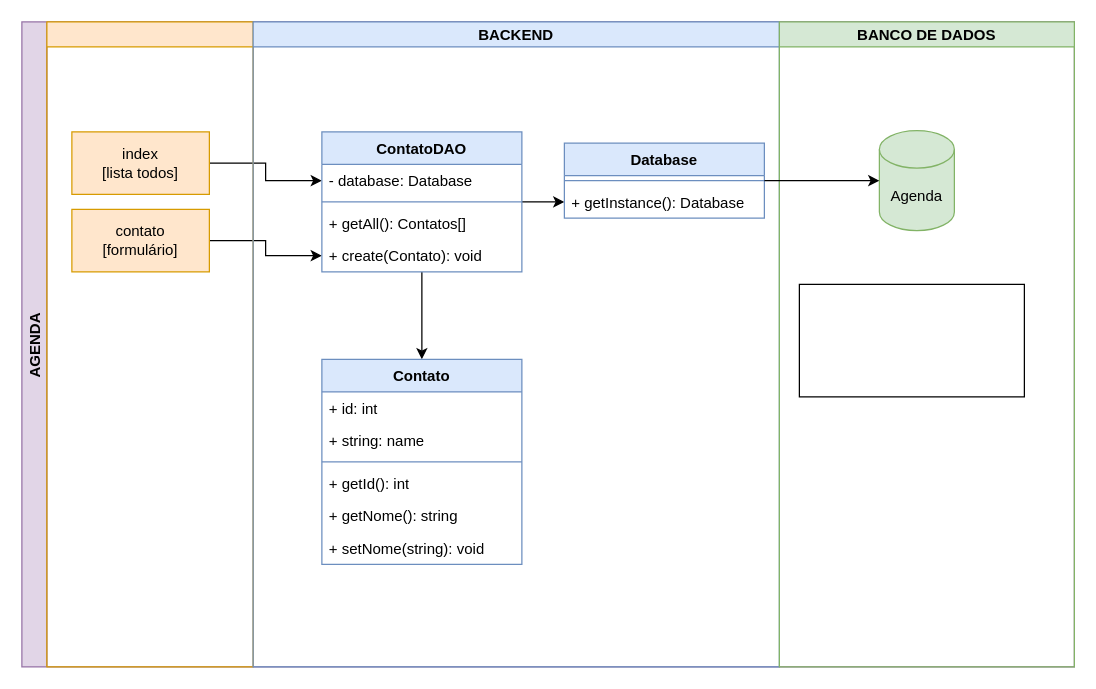
The diagram is 1096 pixels wide and 689 high, and some of its shapes have lost their labels. Here are the shapes that lost their labels. From the top down, the centre of each, then its label:
point (149, 344): FRONTEND
point (911, 340): Contato PK id nome
